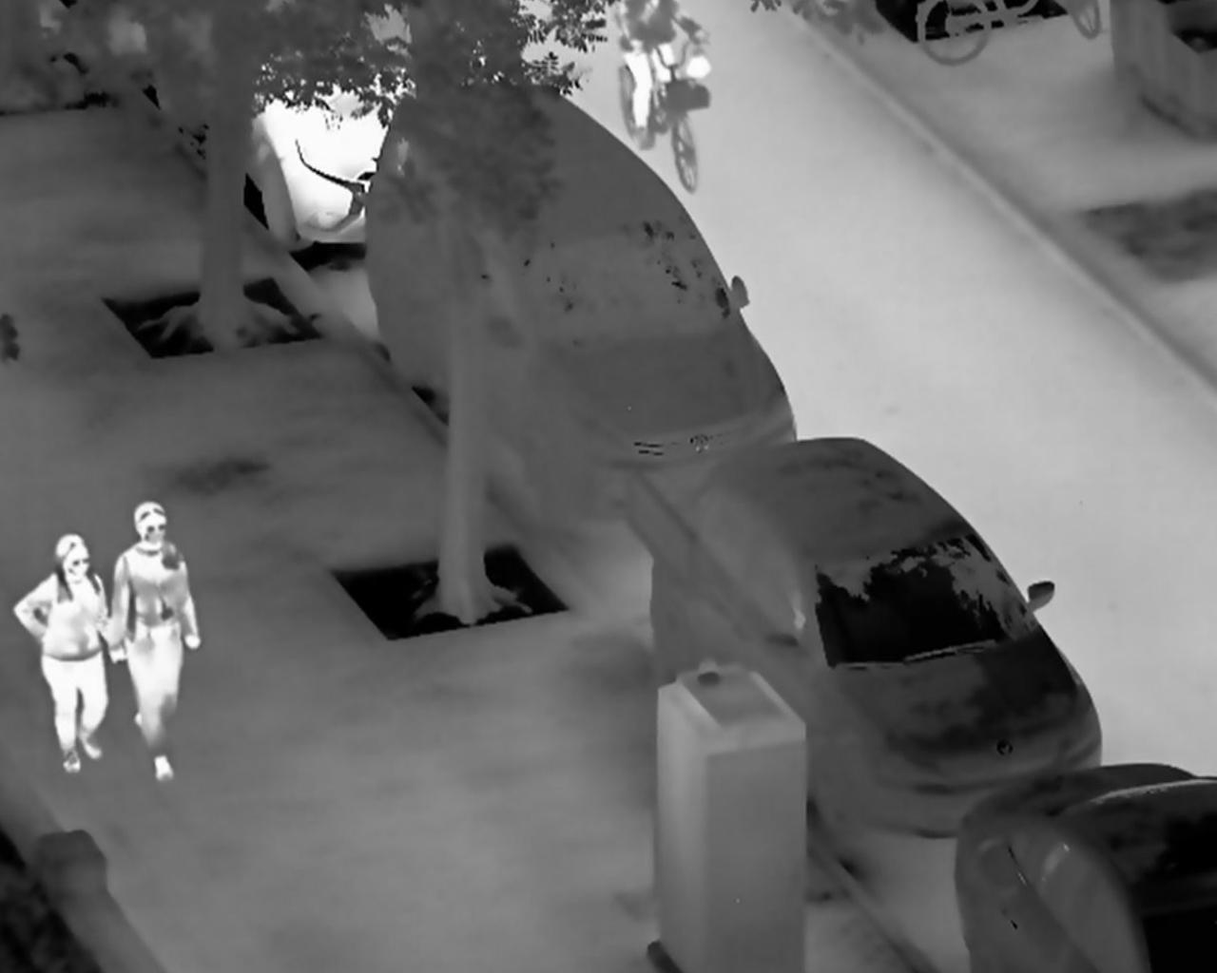person: (110, 501, 202, 787), (10, 530, 115, 774)
